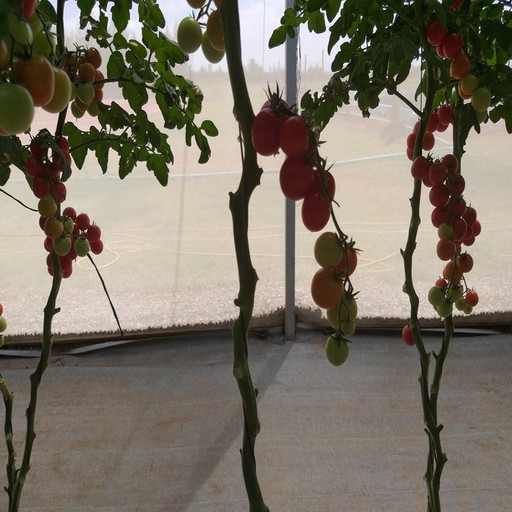green tomato bunch: (177, 1, 232, 60)
mixed tomato bunch: (413, 156, 481, 313), (1, 1, 70, 134), (25, 132, 89, 255), (429, 22, 495, 110), (56, 44, 112, 114)
red tomato bunch: (255, 96, 336, 227), (44, 206, 101, 278), (406, 104, 456, 158)
